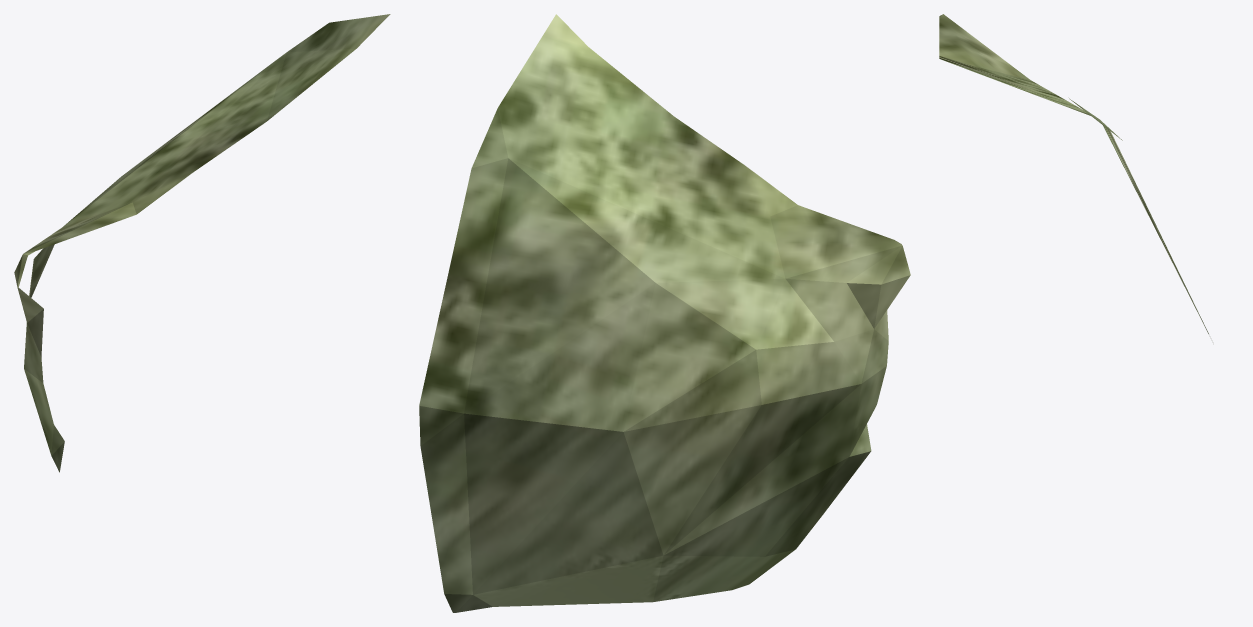
3 renders of one model, left to right at view 1: azimuth 30°, elevation 25°; view 2: azimuth 150°, elevation 25°; view 3: azimuth 270°, elevation 25°, orthographic. The views are drawn at different scales.
Size of the model in its own units: 1.13 by 1.6 by 0.7592.
1 material, 1 textured.
